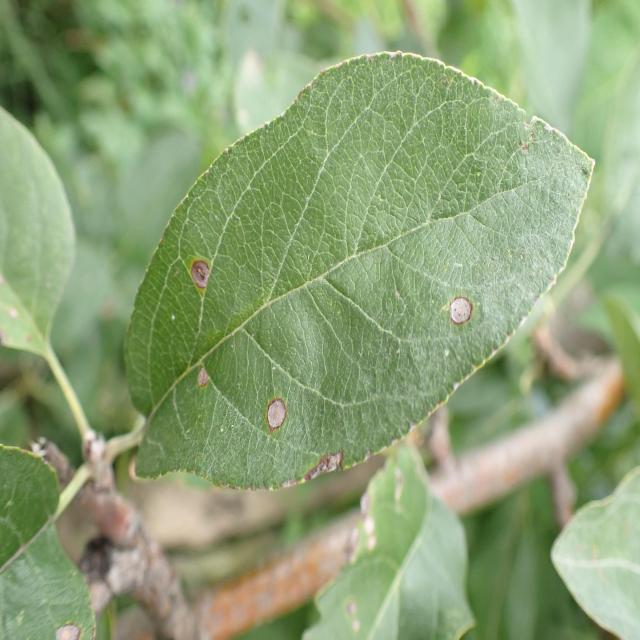Black Rot: (284, 444, 352, 504), (442, 277, 482, 336), (186, 235, 218, 308), (256, 394, 294, 444), (190, 357, 217, 402)
